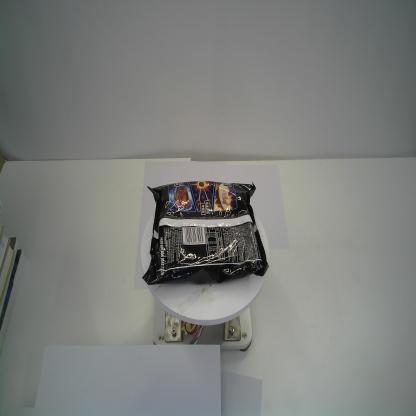Instant Noodles: (140, 179, 271, 289)
